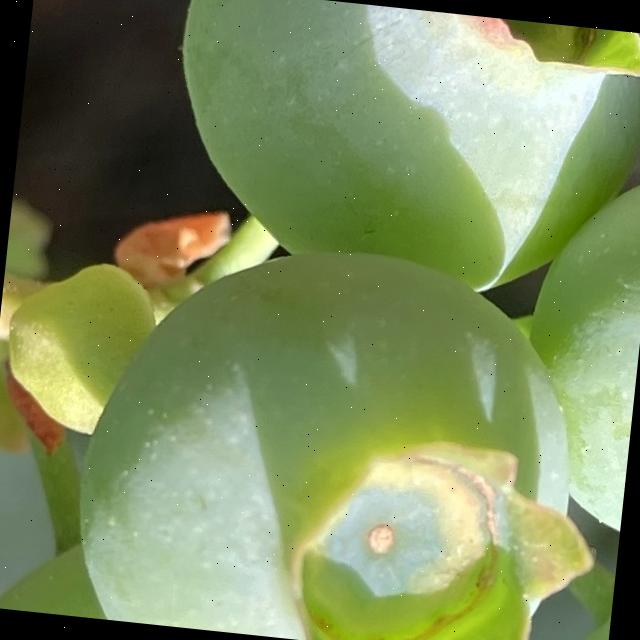Blueberries: (66, 225, 625, 640), (149, 0, 640, 295), (502, 145, 640, 558)
